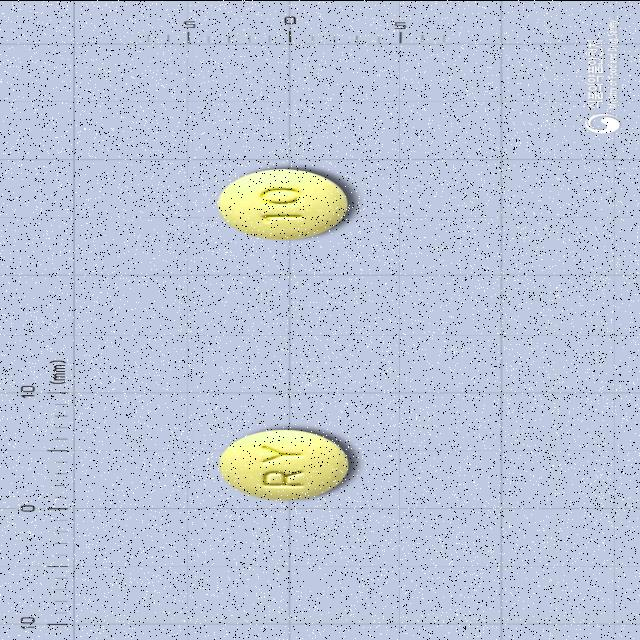Crabacter Tab: (219, 428, 350, 500), (214, 168, 348, 238)
